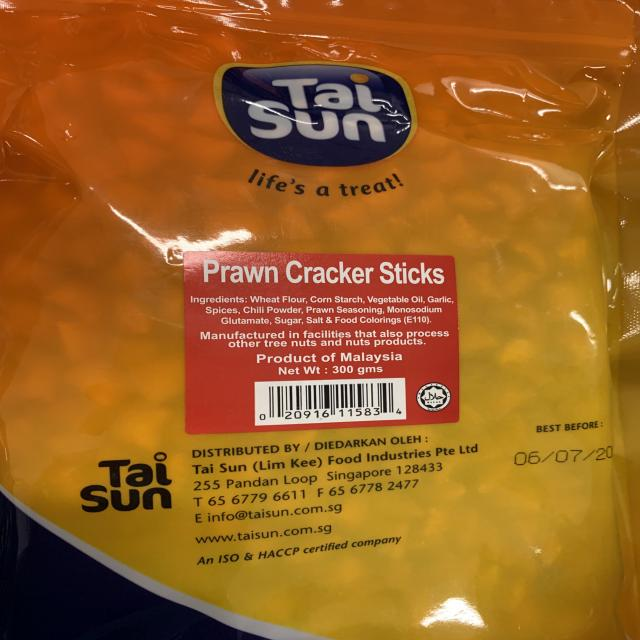object_name: (6, 5, 640, 640)
